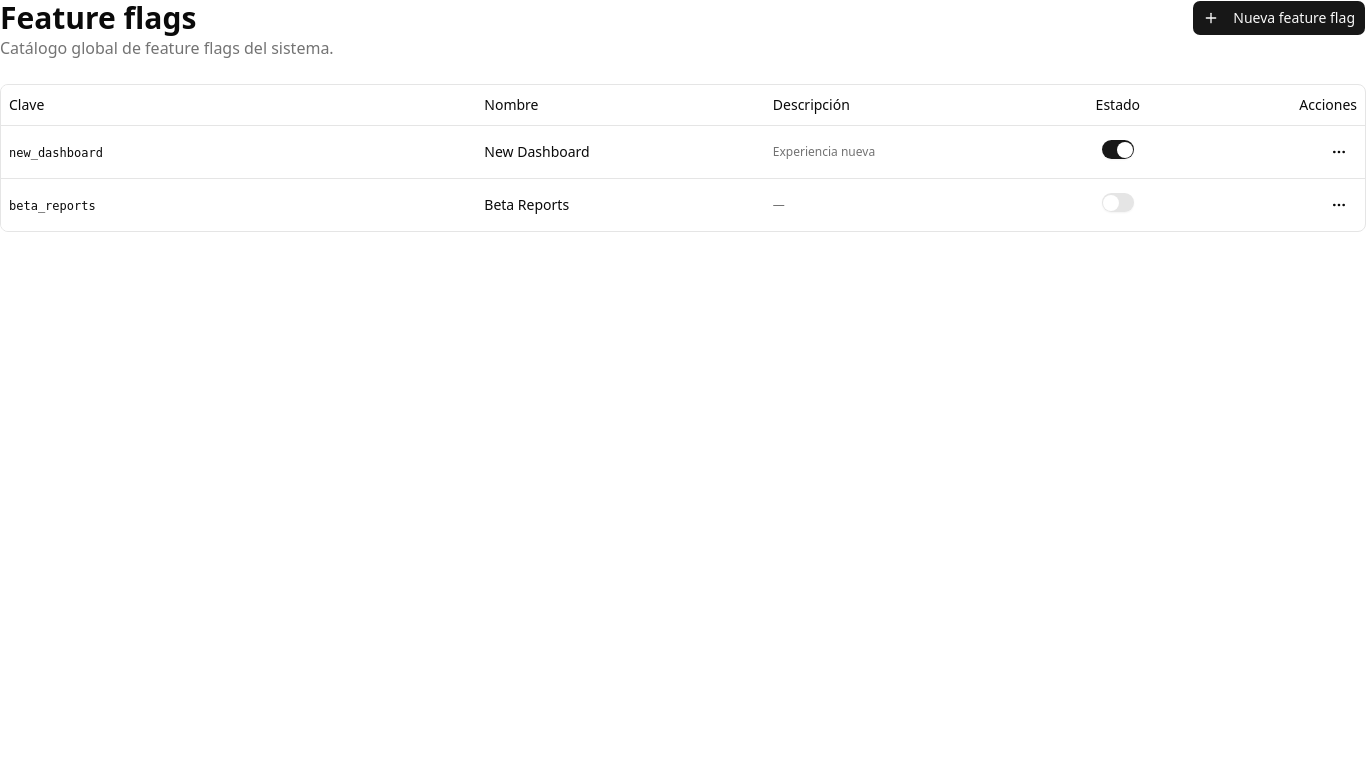
Test case: FeatureFlagsPage › al elegir "Eliminar" en una fila abre el dialog de confirmación
The image size is (1366, 768).
Click the button named "acciones para new_dashboard": x=1339, y=152 [1321, 134, 1357, 170]
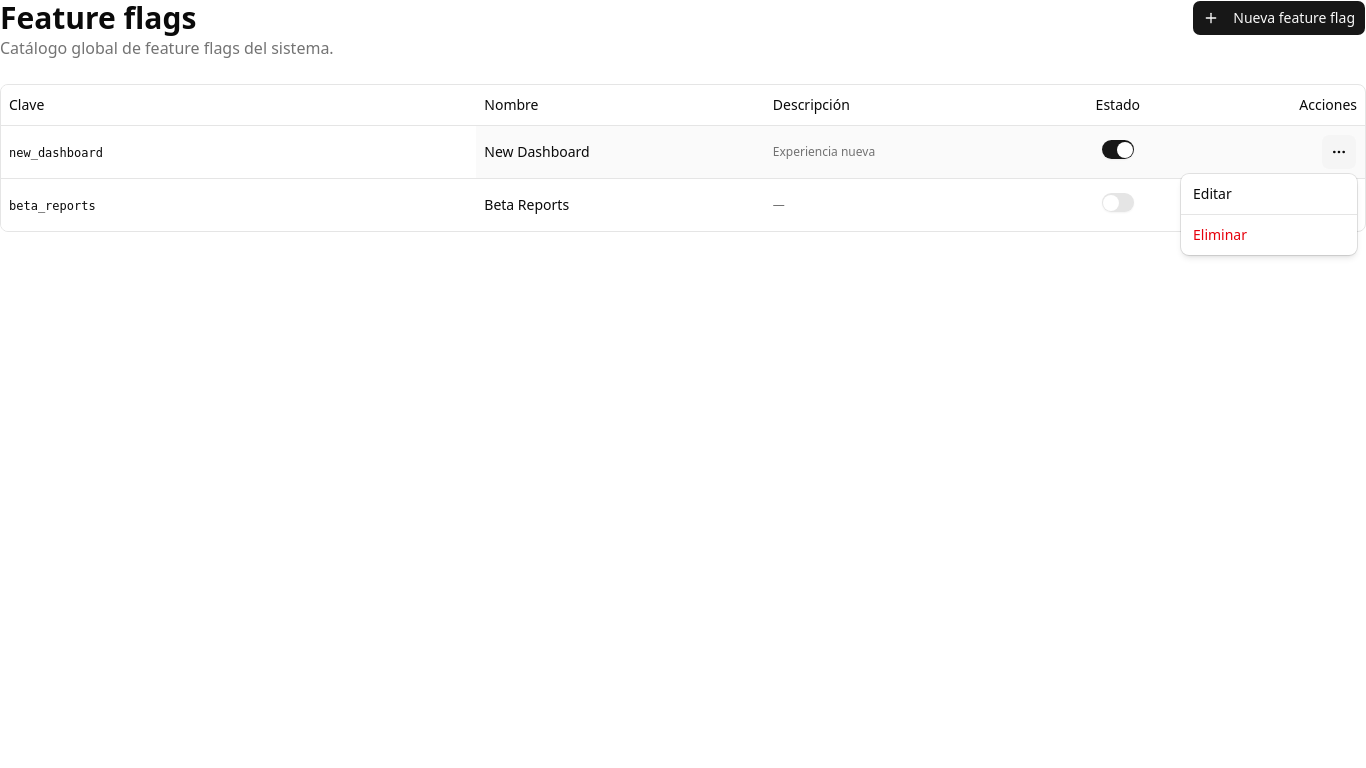
Click the menu item "Eliminar": x=1220, y=234 [1193, 225, 1247, 244]
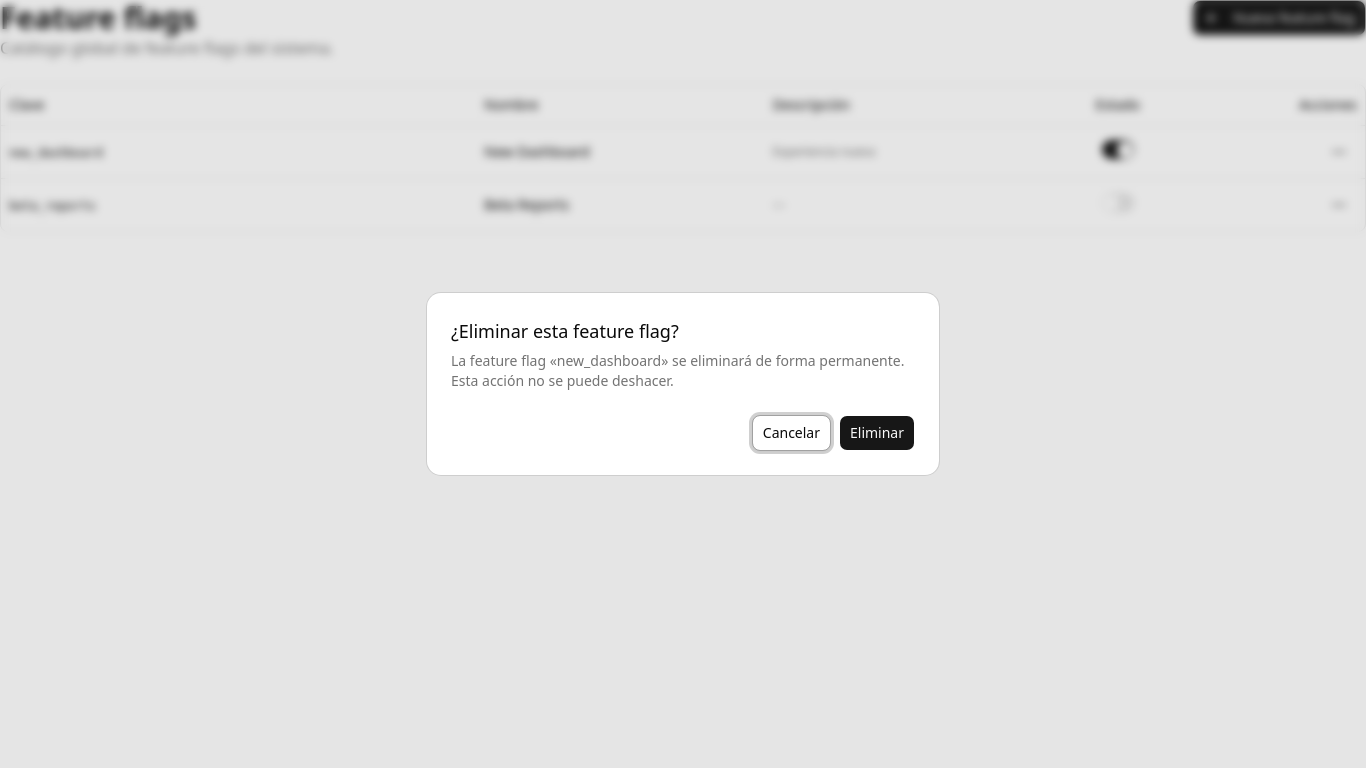
Check: the heading "¿Eliminar esta feature flag?" is shown, box [451, 317, 679, 345]
